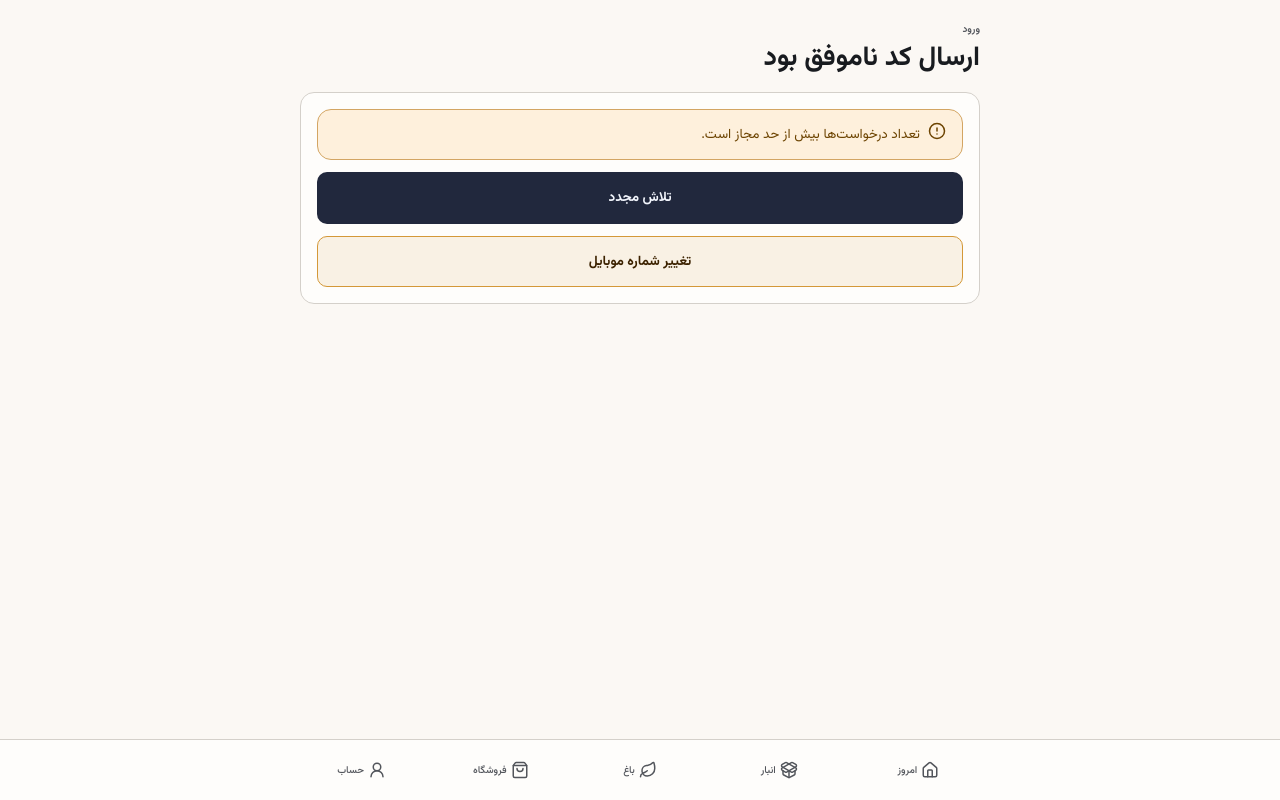
it: canonical T8 onboarding forms › shows rate-limit as a warning during the sending transition and allows retry
Step 1. Click the button "تلاش مجدد" → coordinates (640, 198), box [317,172,963,224]
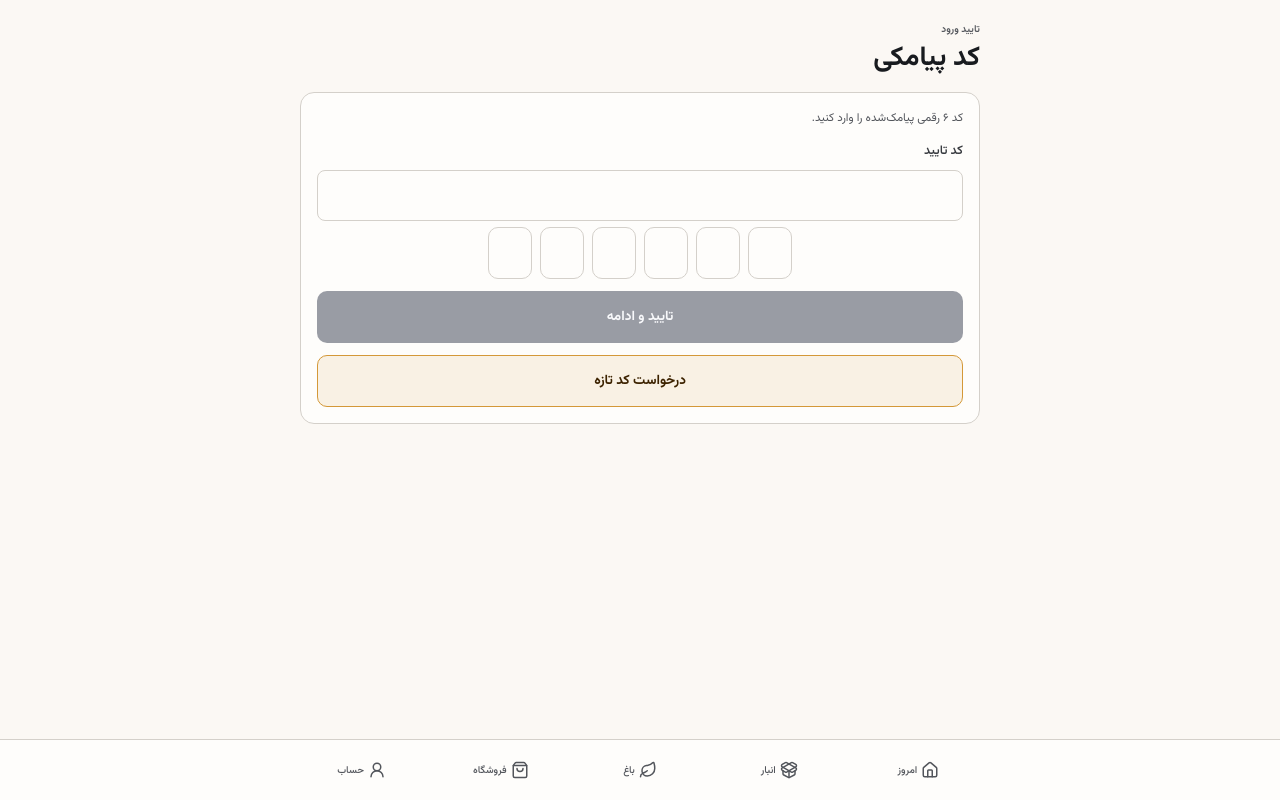
expect the field labelled "کد تایید" is shown: met, box [317,170,963,221]
